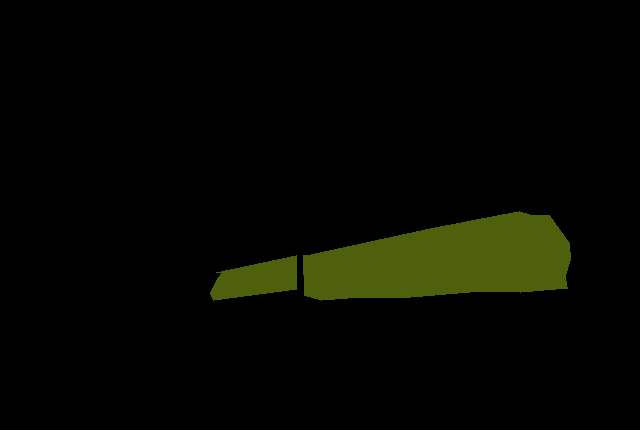Train: (210, 211, 570, 300)
